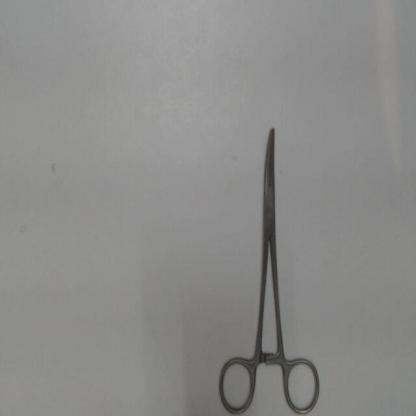Crile Artery Forceps: (212, 117, 321, 415)
